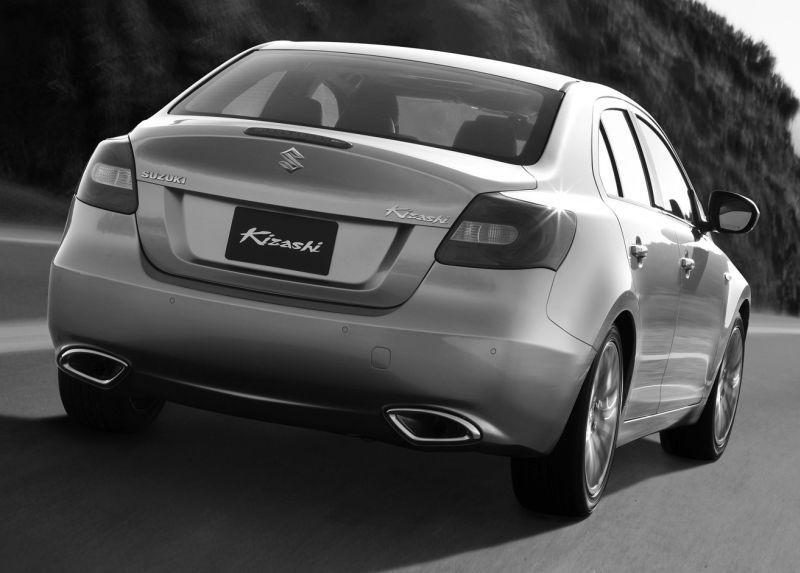car: (44, 38, 760, 527)
